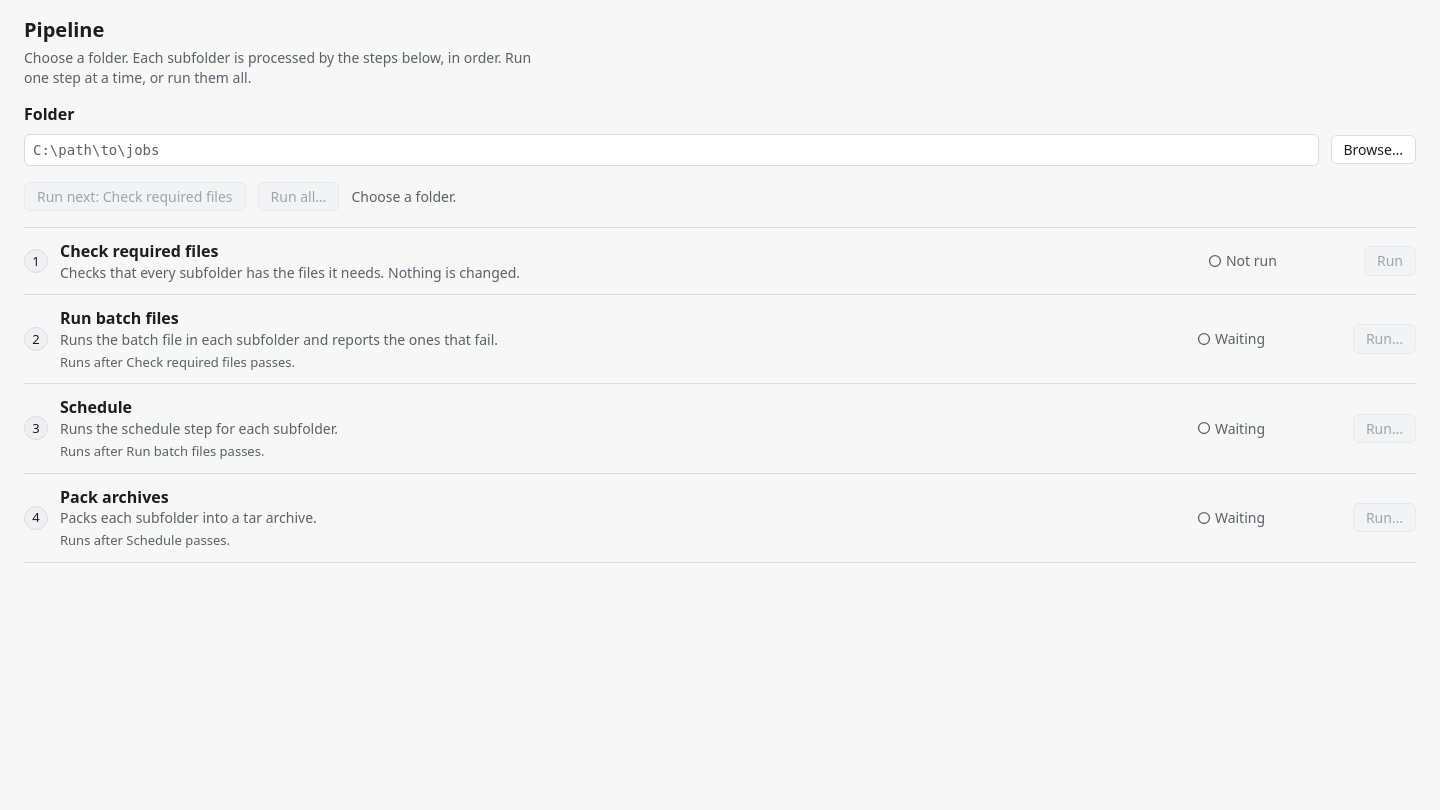
browsing sets the folder and shows its subfolder count
Check: the field labelled "Folder" is shown, box [24,134,1318,166]
Step 1. Click the button with aria-label "Browse for the folder" → coordinates (1373, 150), box [1330,135,1416,164]
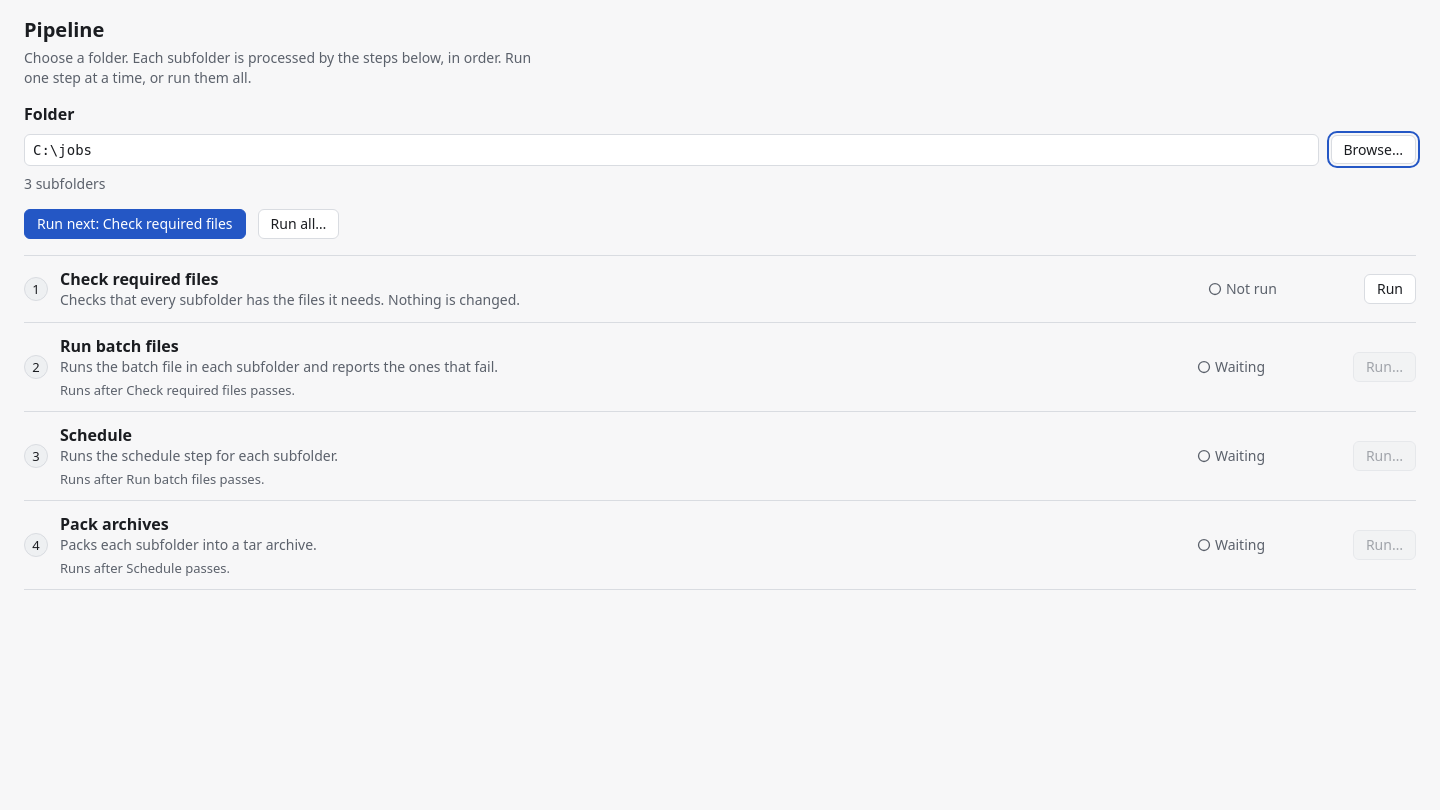
Check: the text "3 subfolders" is shown, box [24,174,106,193]
Check: the field labelled "Folder" holds "C:\\jobs", box [24,134,1318,166]
Check: the button "Run all…" is enabled, box [258,209,339,239]
